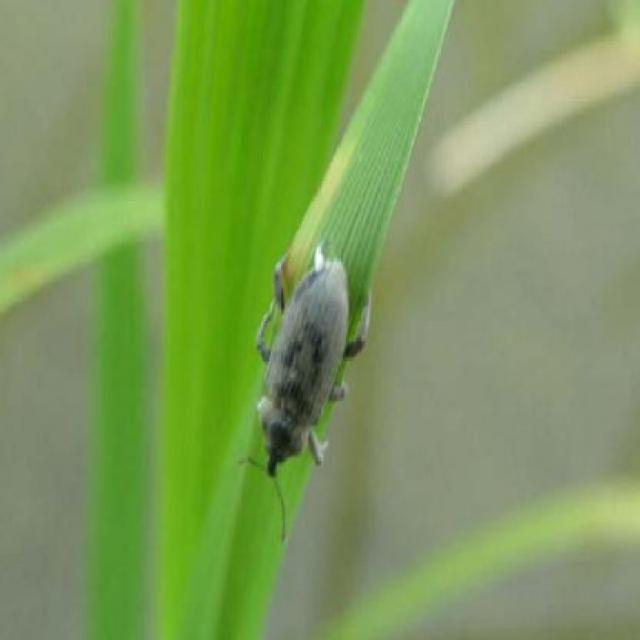rice-bug: (248, 246, 377, 454)
